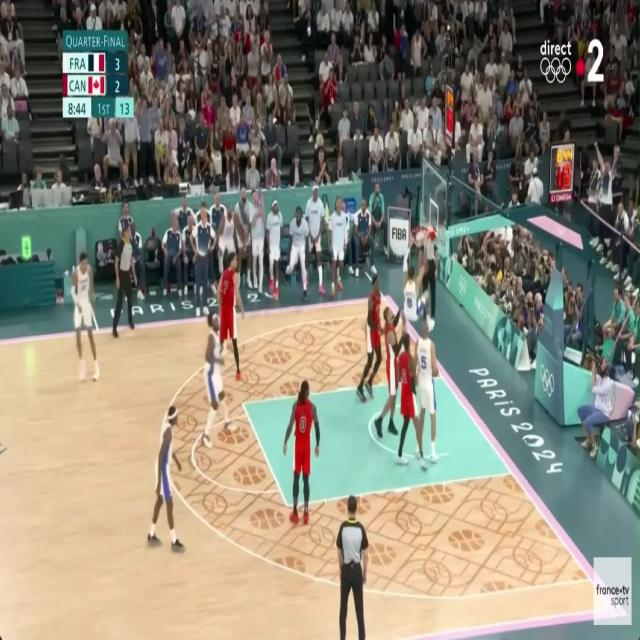ball_handler: (402, 233, 434, 334)
